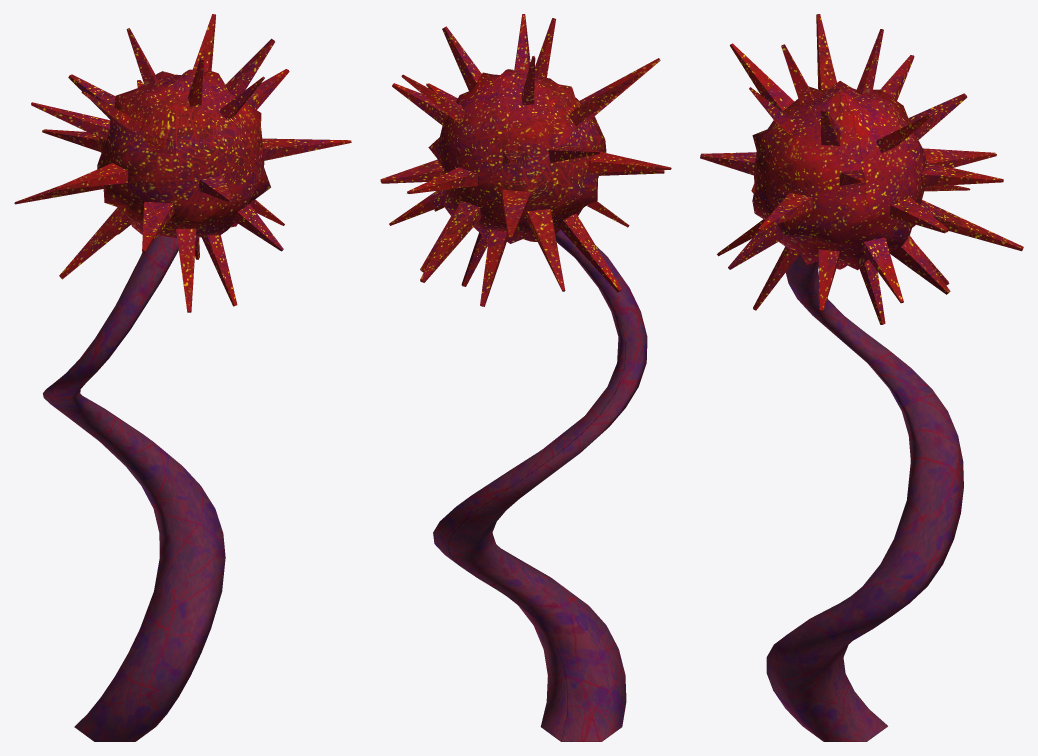
The model's file is Planet_MinePlant.fbx.
3 views of the same model, side by side, from view 1: azimuth 30°, elevation 25°; view 2: azimuth 150°, elevation 25°; view 3: azimuth 270°, elevation 25° (orthographic). The views are drawn at different scales.
Parts seen in each view (by area): view 1: Planet_MinePlant; view 2: Planet_MinePlant; view 3: Planet_MinePlant.
Part boxes in pixels (x1,y1,x2,y2): Planet_MinePlant: (14, 14, 351, 741); Planet_MinePlant: (380, 14, 671, 741); Planet_MinePlant: (700, 14, 1023, 741).
Size of the model in its own units: 0.4177 by 1 by 0.4115.
